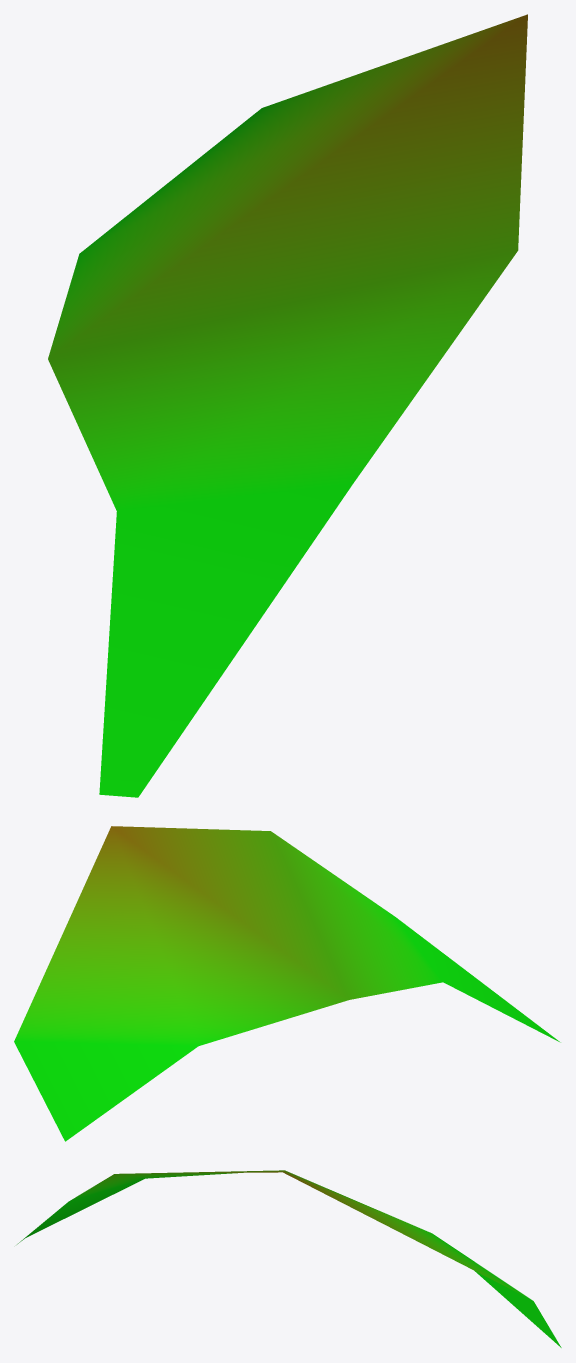
Rendered from Lady Fern_LOD5_Var16_wdvlditia.fbx.
The picture shows the model from 3 angles, top to bottom: view 1: azimuth 30°, elevation 25°; view 2: azimuth 150°, elevation 25°; view 3: azimuth 270°, elevation 25°; orthographic projection. The views are drawn at different scales.
Parts seen in each view (by area): view 1: _up8w_Var16_LOD5; view 2: _up8w_Var16_LOD5; view 3: _up8w_Var16_LOD5.
Part boxes in pixels (x1,y1,x2,y2): _up8w_Var16_LOD5: (48,14,527,797); _up8w_Var16_LOD5: (14,826,560,1141); _up8w_Var16_LOD5: (17,1170,561,1347).
Bounding box in the file's own units: 16.97 × 10.91 × 22.25.
